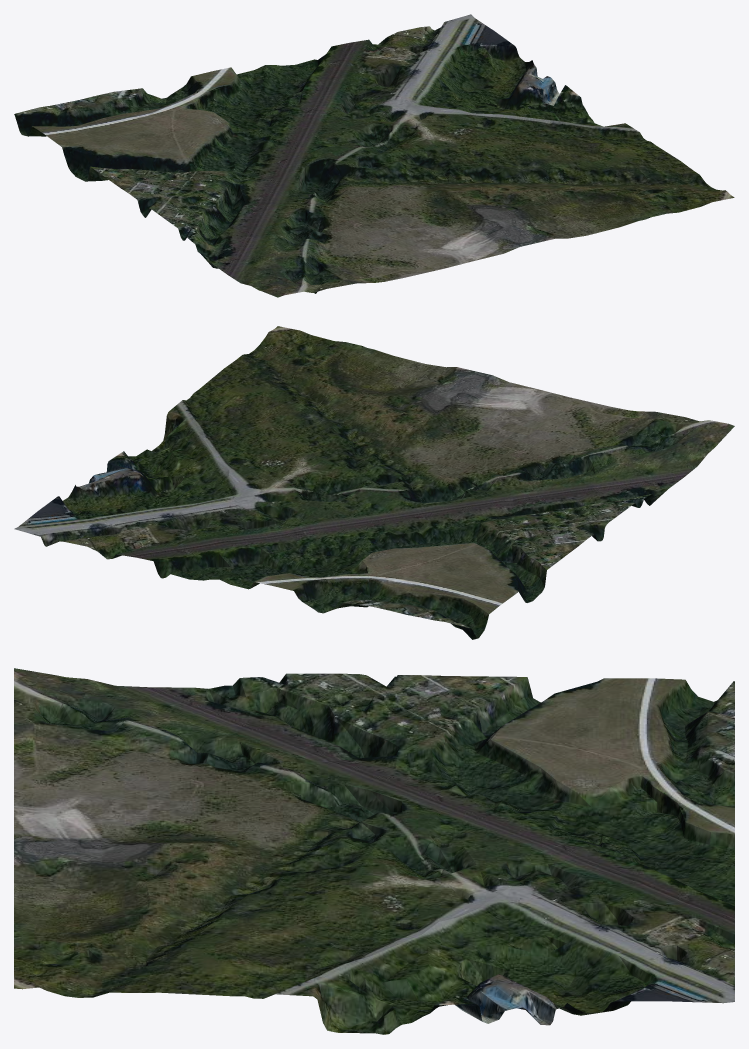
Rendered from map_13_2044_3445.dae.
3 views of the same model, one above another, from view 1: azimuth 30°, elevation 25°; view 2: azimuth 150°, elevation 25°; view 3: azimuth 270°, elevation 25° (orthographic). The views are drawn at different scales.
Visible parts, largest first — view 1: Ter0; view 2: Ter0; view 3: Ter0.
Part boxes in pixels (x1,y1,x2,y2): Ter0: (14, 14, 734, 297); Ter0: (14, 326, 734, 639); Ter0: (14, 668, 734, 1034).
Bounding box in the file's own units: 256 × 256 × 24.68.
2 materials, 2 textured.
